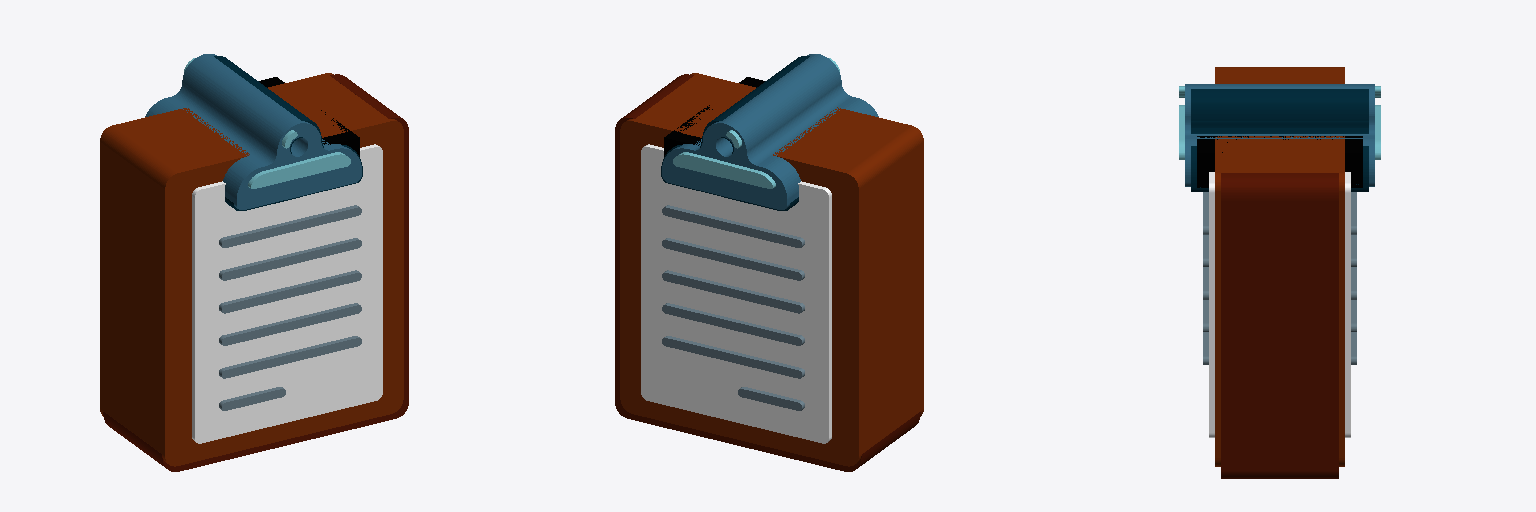
3 renders of one model, left to right at view 1: azimuth 30°, elevation 25°; view 2: azimuth 150°, elevation 25°; view 3: azimuth 270°, elevation 25°, orthographic.
Visible parts, largest first — view 1: U+1F4CB_layer01_obj00, U+1F4CB_layer02_obj00, U+1F4CB_layer06_obj00, U+1F4CB_layer00_obj00, U+1F4CB_layer03_obj02, U+1F4CB_layer03_obj00, U+1F4CB_layer03_obj03, U+1F4CB_layer03_obj01, U+1F4CB_layer03_obj04, U+1F4CB_layer07_obj01, U+1F4CB_layer05_obj00, U+1F4CB_layer03_obj05 (+1 smaller); view 2: U+1F4CB_layer01_obj00, U+1F4CB_layer02_obj00, U+1F4CB_layer06_obj00, U+1F4CB_layer00_obj00, U+1F4CB_layer03_obj02, U+1F4CB_layer03_obj00, U+1F4CB_layer03_obj03, U+1F4CB_layer03_obj01, U+1F4CB_layer03_obj04, U+1F4CB_layer07_obj01, U+1F4CB_layer05_obj00, U+1F4CB_layer03_obj05 (+1 smaller); view 3: U+1F4CB_layer00_obj00, U+1F4CB_layer01_obj00, U+1F4CB_layer05_obj00, U+1F4CB_layer02_obj00, U+1F4CB_layer06_obj00, U+1F4CB_layer04_obj00, U+1F4CB_layer07_obj01.
Boxes of the visible parts, x1,y1,x2,y2 form: U+1F4CB_layer01_obj00: [100, 73, 403, 466]; U+1F4CB_layer02_obj00: [192, 144, 382, 443]; U+1F4CB_layer06_obj00: [145, 54, 361, 209]; U+1F4CB_layer00_obj00: [103, 74, 408, 471]; U+1F4CB_layer03_obj02: [219, 270, 361, 313]; U+1F4CB_layer03_obj00: [219, 336, 361, 378]; U+1F4CB_layer03_obj03: [219, 238, 361, 280]; U+1F4CB_layer03_obj01: [219, 205, 361, 247]; U+1F4CB_layer03_obj04: [219, 303, 361, 345]; U+1F4CB_layer07_obj01: [248, 152, 350, 188]; U+1F4CB_layer05_obj00: [214, 56, 362, 210]; U+1F4CB_layer03_obj05: [219, 387, 285, 410]; U+1F4CB_layer01_obj00: [620, 73, 923, 466]; U+1F4CB_layer02_obj00: [641, 144, 831, 443]; U+1F4CB_layer06_obj00: [662, 54, 878, 209]; U+1F4CB_layer00_obj00: [615, 74, 920, 471]; U+1F4CB_layer03_obj02: [662, 270, 804, 313]; U+1F4CB_layer03_obj00: [662, 336, 804, 378]; U+1F4CB_layer03_obj03: [662, 238, 804, 280]; U+1F4CB_layer03_obj01: [662, 205, 804, 247]; U+1F4CB_layer03_obj04: [662, 303, 804, 345]; U+1F4CB_layer07_obj01: [673, 152, 775, 188]; U+1F4CB_layer05_obj00: [661, 56, 809, 210]; U+1F4CB_layer03_obj05: [738, 387, 804, 410]; U+1F4CB_layer00_obj00: [1221, 173, 1338, 478]; U+1F4CB_layer01_obj00: [1215, 67, 1344, 466]; U+1F4CB_layer05_obj00: [1191, 89, 1368, 191]; U+1F4CB_layer02_obj00: [1209, 172, 1350, 437]; U+1F4CB_layer06_obj00: [1185, 84, 1374, 186]; U+1F4CB_layer04_obj00: [1197, 136, 1362, 187]; U+1F4CB_layer07_obj01: [1179, 105, 1380, 159].
Bounding box in the file's own units: 0.2402 × 0.3124 × 0.17.